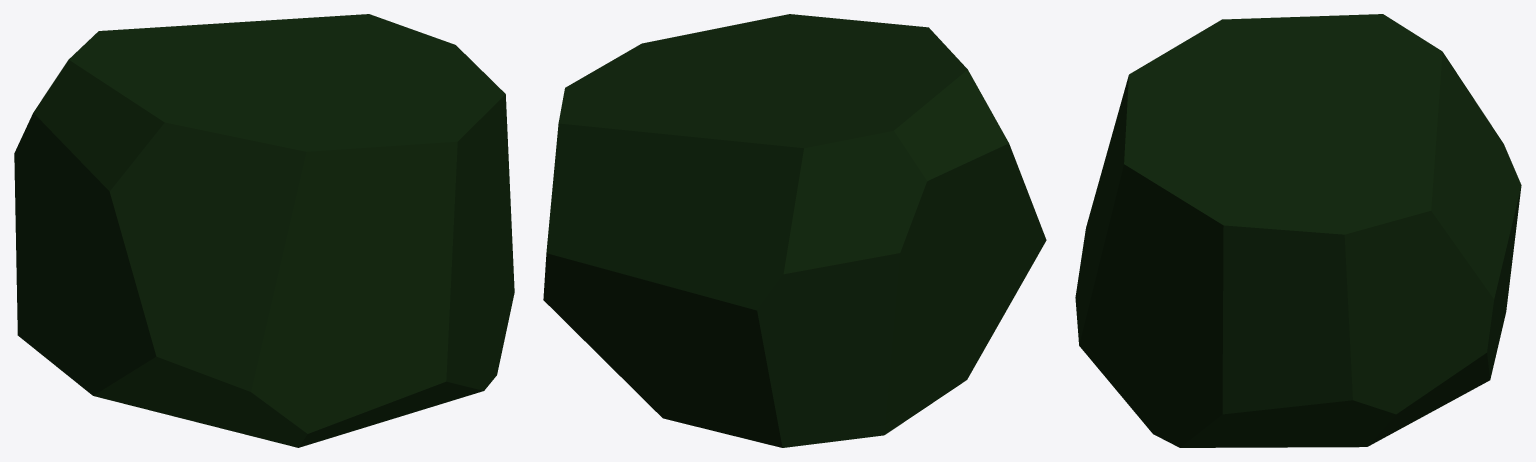
File: StoneBig3.fbx
3 renders of one model, left to right at view 1: azimuth 30°, elevation 25°; view 2: azimuth 150°, elevation 25°; view 3: azimuth 270°, elevation 25°, orthographic. The views are drawn at different scales.
Visible parts, largest first — view 1: stoneBig3; view 2: stoneBig3; view 3: stoneBig3.
Boxes of the visible parts, x1=… form: stoneBig3: x1=14, y1=14, x2=514, y2=447; stoneBig3: x1=543, y1=14, x2=1046, y2=447; stoneBig3: x1=1075, y1=14, x2=1521, y2=447.
Size of the model in its own units: 330 by 238 by 332.
Materials: 1 (1 with a texture image).
